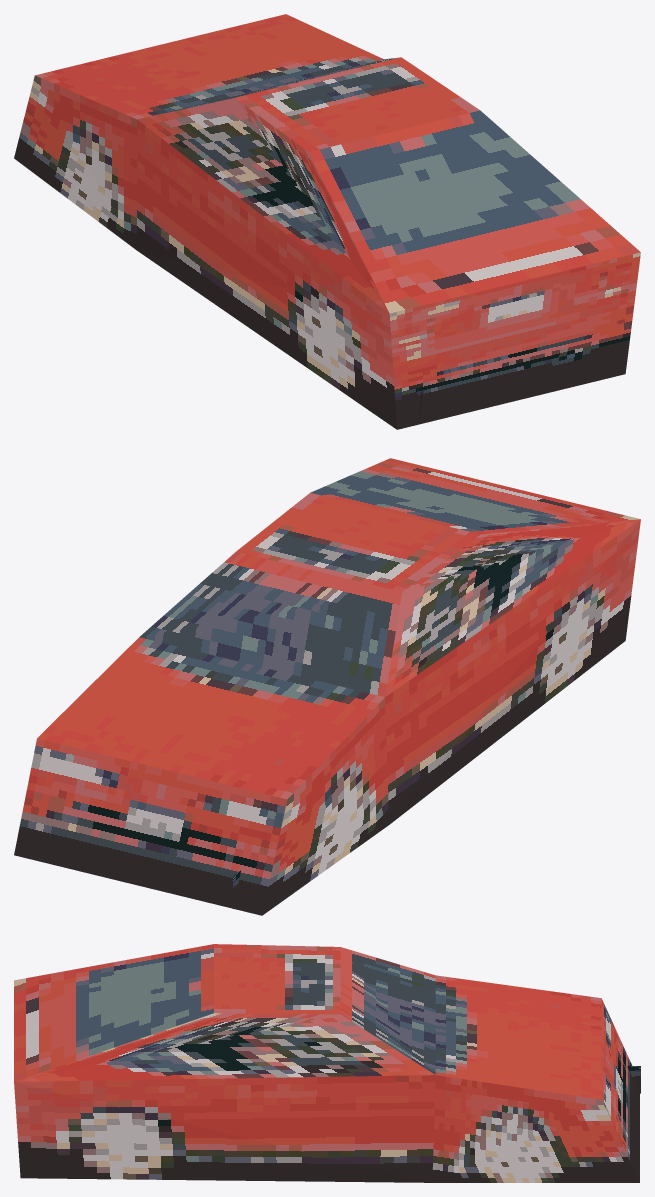
Rendered from car-prelude.glb.
The picture shows the model from 3 angles, top to bottom: view 1: azimuth 30°, elevation 25°; view 2: azimuth 150°, elevation 25°; view 3: azimuth 270°, elevation 25°; orthographic projection. The views are drawn at different scales.
Parts seen in each view (by area): view 1: car-prelude; view 2: car-prelude; view 3: car-prelude.
Part boxes in pixels (bbox=[...]): car-prelude: bbox=[14, 14, 640, 429]; car-prelude: bbox=[14, 458, 640, 915]; car-prelude: bbox=[14, 944, 640, 1182].
Size of the model in its own units: 1.72 by 1.21 by 4.48.
Materials: 15 (15 with a texture image).
